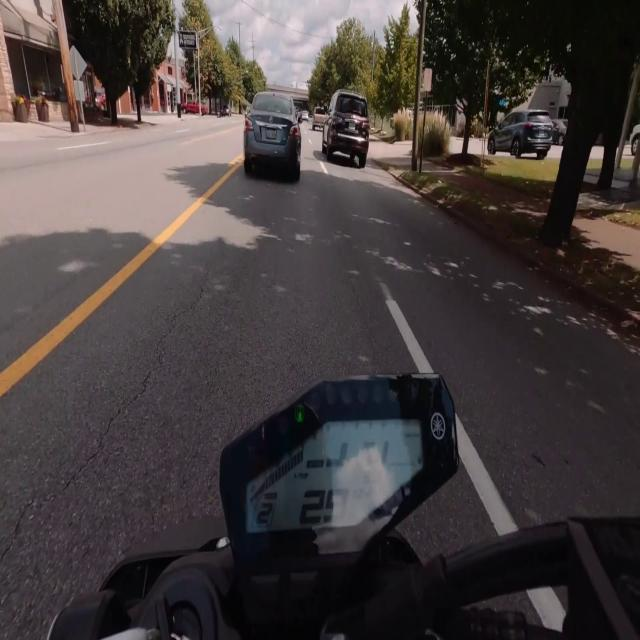car: (244, 92, 301, 180), (322, 89, 369, 168), (487, 110, 552, 159), (312, 107, 326, 130), (219, 106, 230, 116), (300, 110, 309, 122)
motorcycle: (49, 375, 639, 639)
